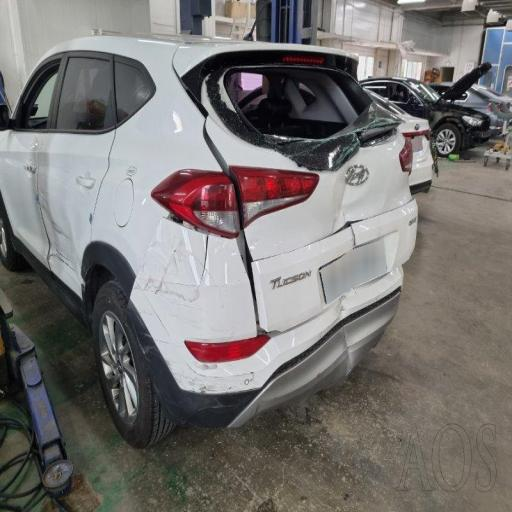broken: (51, 66, 390, 447)
